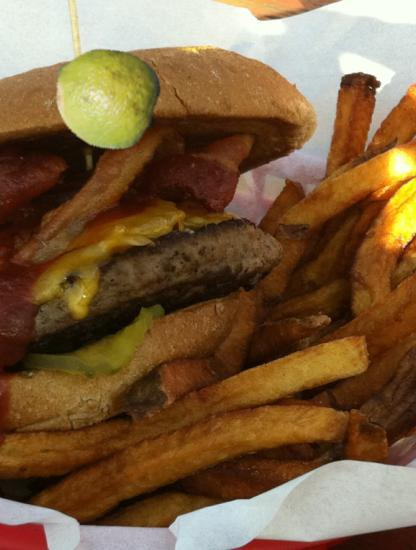Limes: (53, 42, 161, 150)
